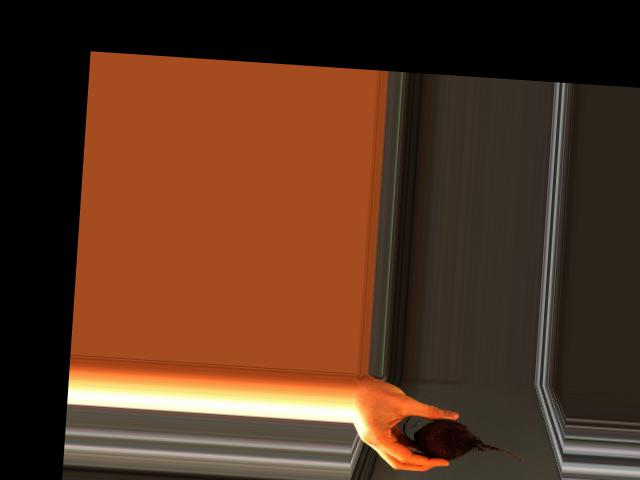beet: (402, 415, 530, 464)
